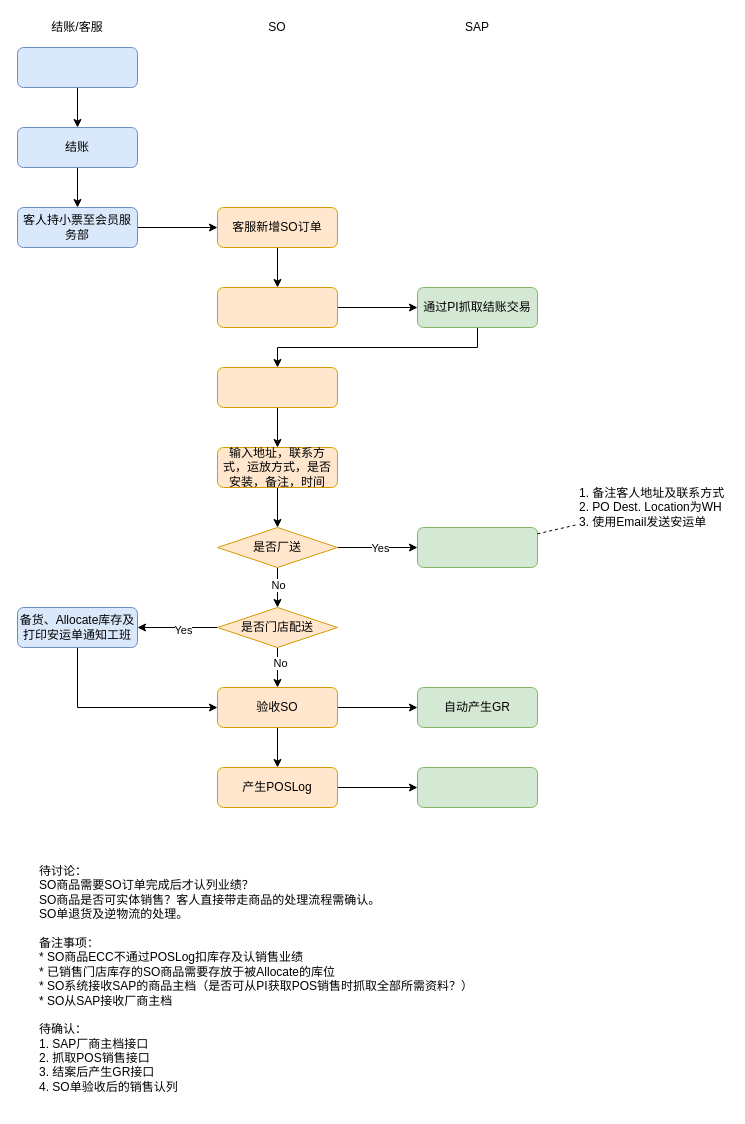
The diagram is 745 pixels wide and 1124 high, and some of its shapes have lost their labels. The shapes that lost their labels are listed below. From the top down, each one's box as (x1, y1, x2, y2) in pixels, then its label:
(16, 46, 138, 88): 客人选购
(216, 286, 338, 328): 扫码/Key 条码
(216, 366, 338, 408): 载入交易明细
(416, 526, 538, 568): 产生PO
(416, 766, 538, 808): 自动扣库存
